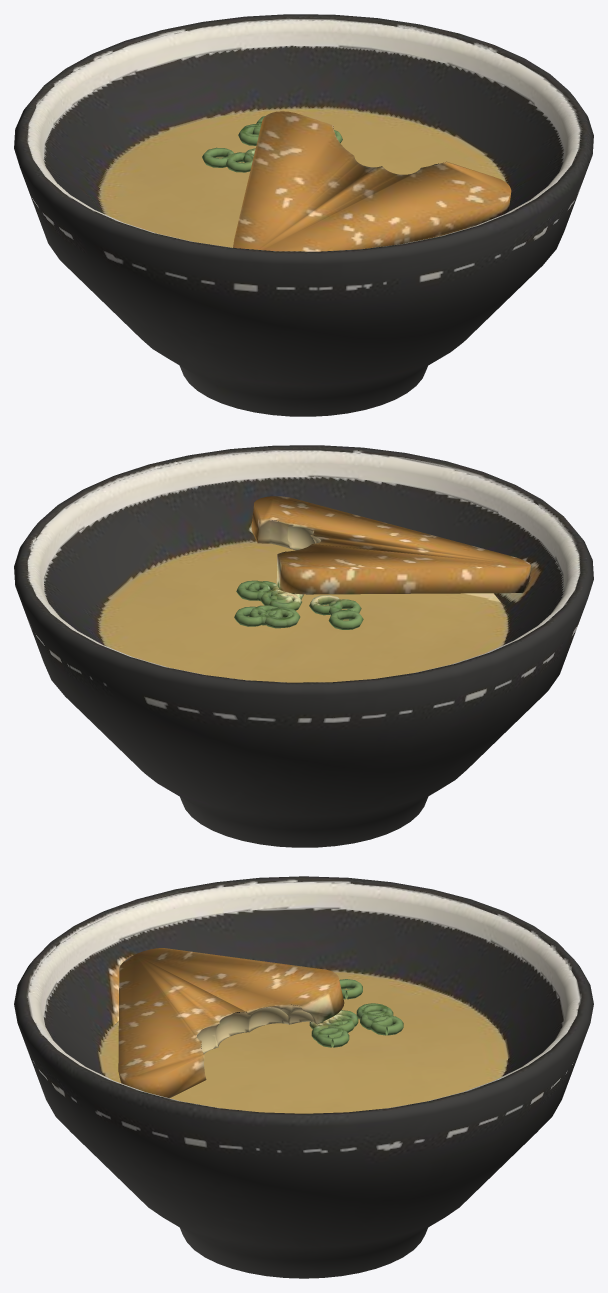
The model's file is udon_nn1.glb.
3 views of the same model, one above another, from view 1: azimuth 30°, elevation 25°; view 2: azimuth 150°, elevation 25°; view 3: azimuth 270°, elevation 25° (orthographic).
Parts seen in each view (by area): view 1: prop_udon_nn1_felt; view 2: prop_udon_nn1_felt; view 3: prop_udon_nn1_felt.
Part boxes in pixels (x1,y1,x2,y2): prop_udon_nn1_felt: (14, 14, 593, 416); prop_udon_nn1_felt: (14, 445, 593, 847); prop_udon_nn1_felt: (14, 876, 593, 1278).
Bounding box in the file's own units: 0.3018 × 0.1395 × 0.3018.
1 material, 1 textured.
